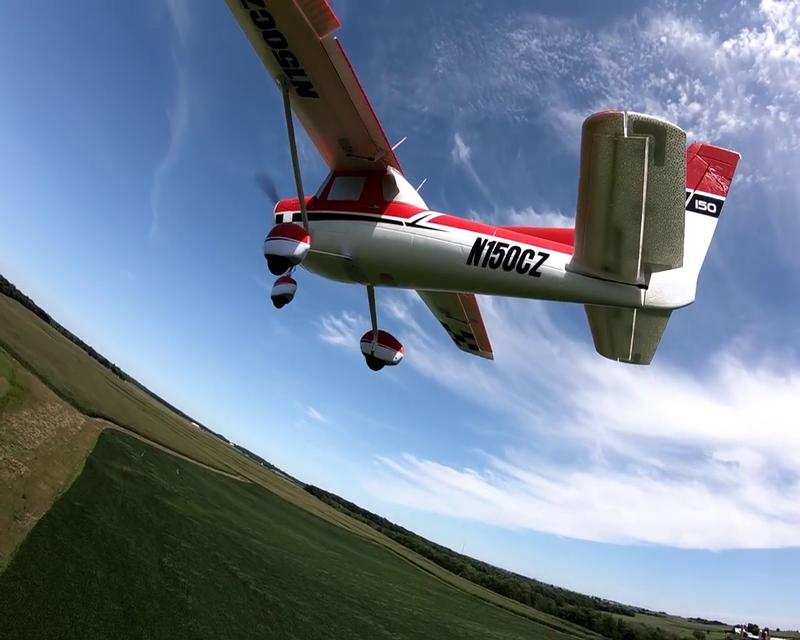UAV: (225, 0, 740, 370)
